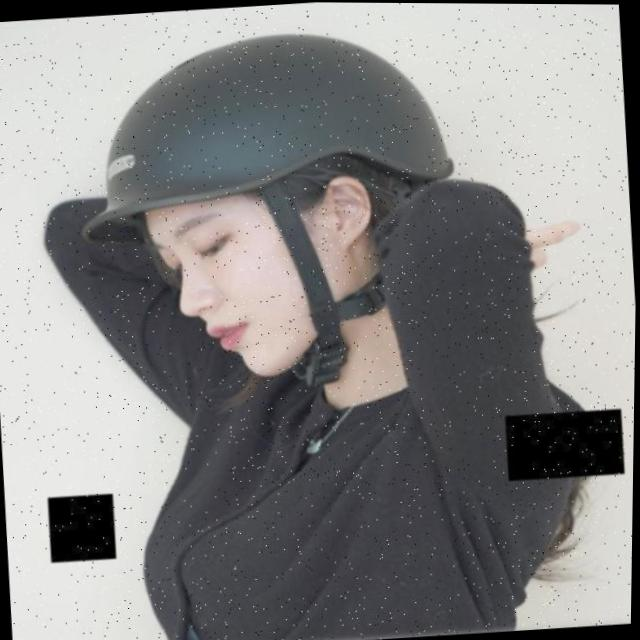helmet: (73, 17, 474, 404)
